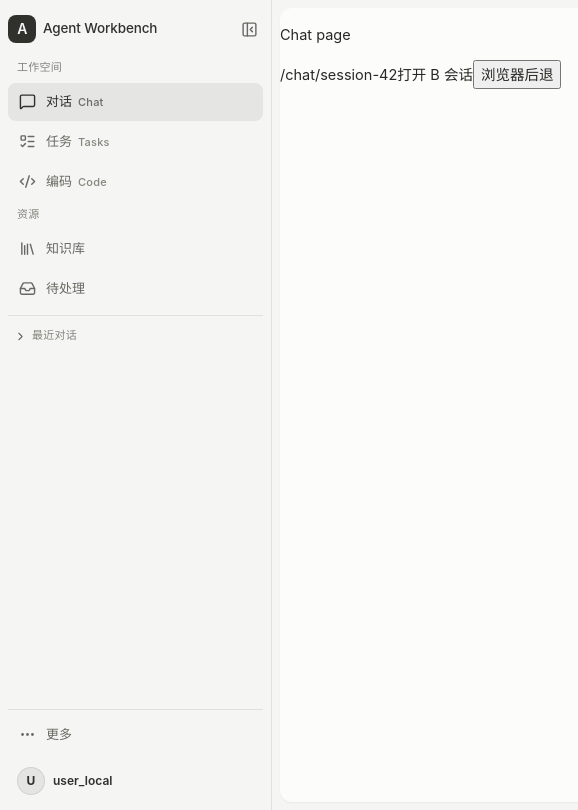
Scenario: AppShell rail › returns from /chat/session-42 to the last open item
Click the link "任务 Tasks".
click(64, 142)  # box [18,133,110,150]
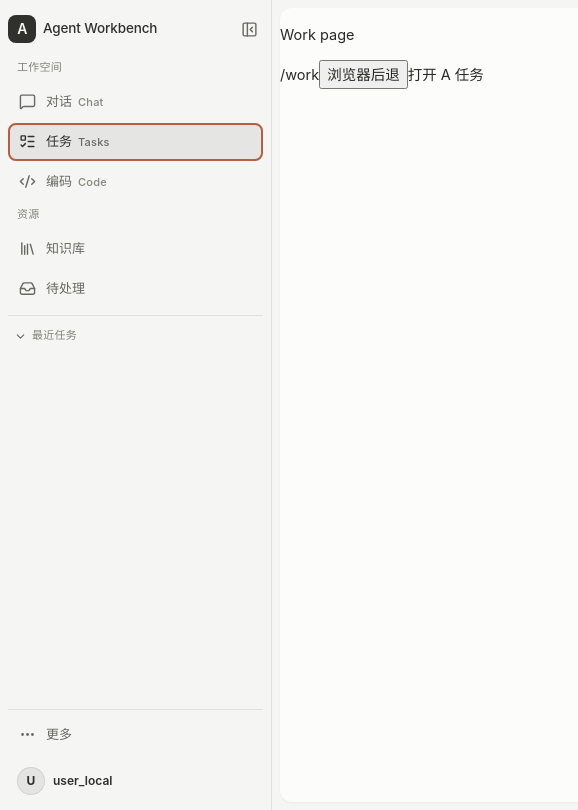
Click the link "对话 Chat".
click(61, 102)  # box [18,93,104,110]
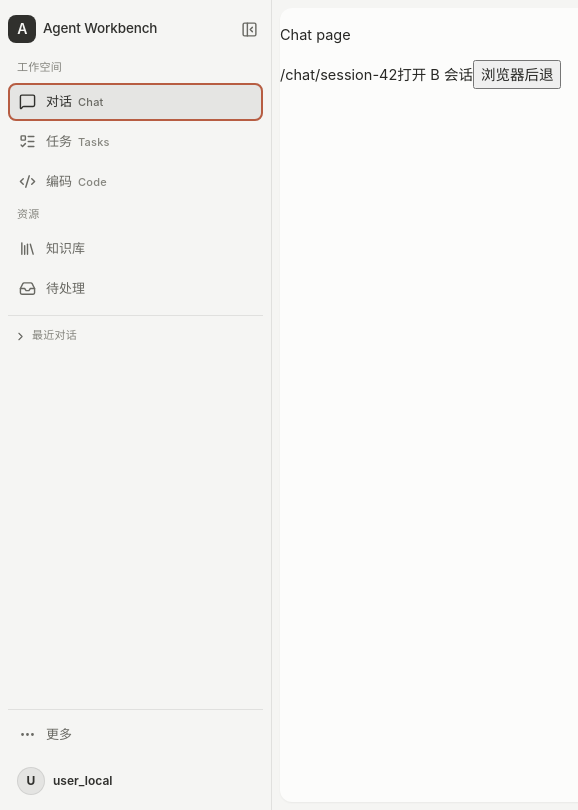
Check: the text named "当前路径" reads "/chat/session-42", box [280,66,397,83]
